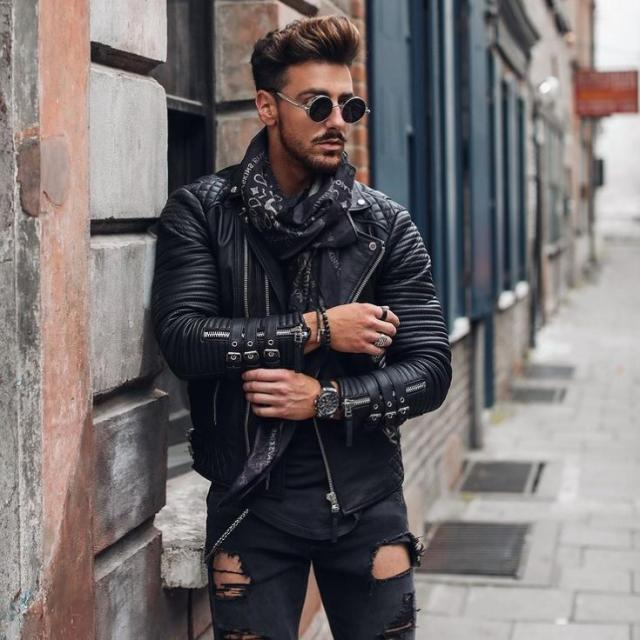Jacket: (142, 170, 454, 516)
